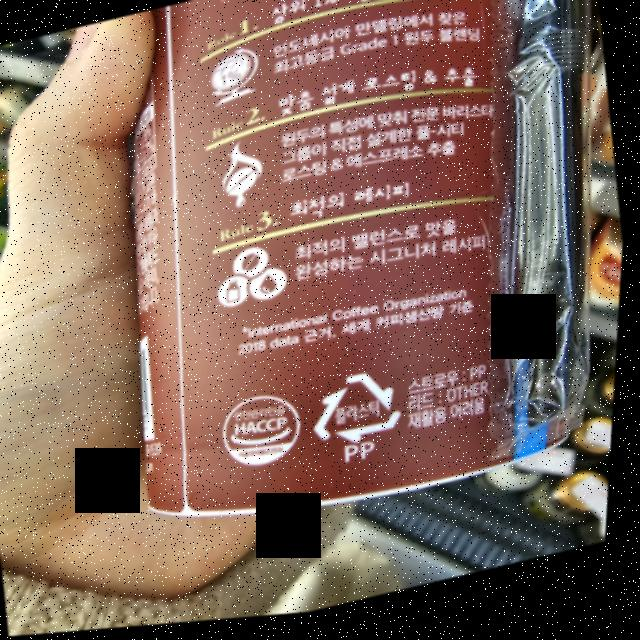Plastic: (306, 369, 417, 461)
